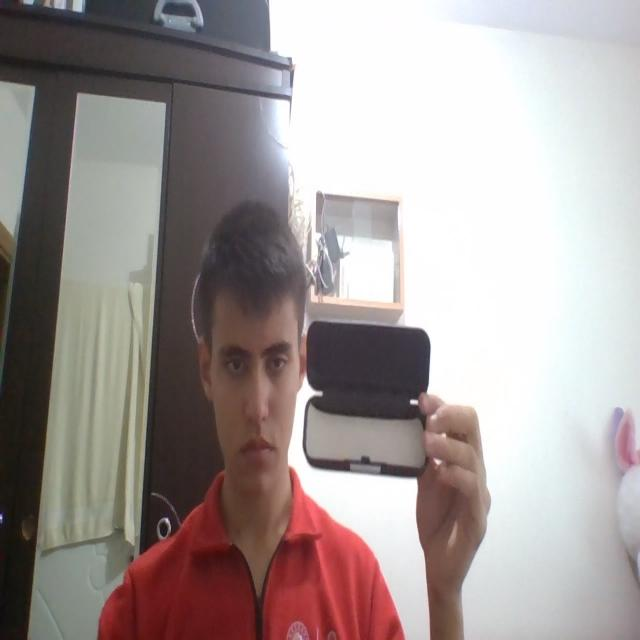glasses-box: (305, 318, 431, 484)
